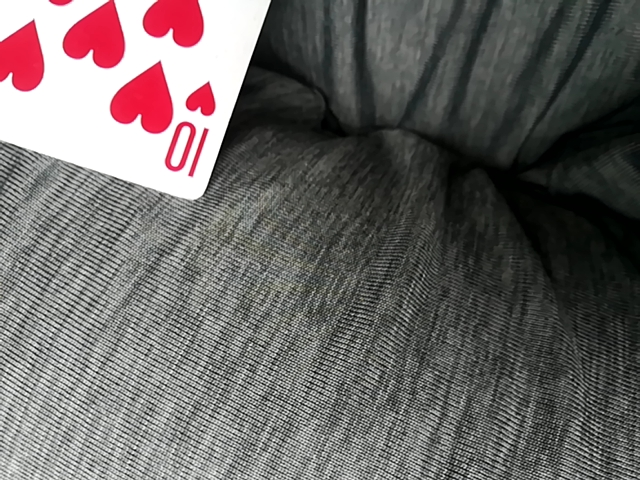hx 10: (0, 1, 292, 203)
